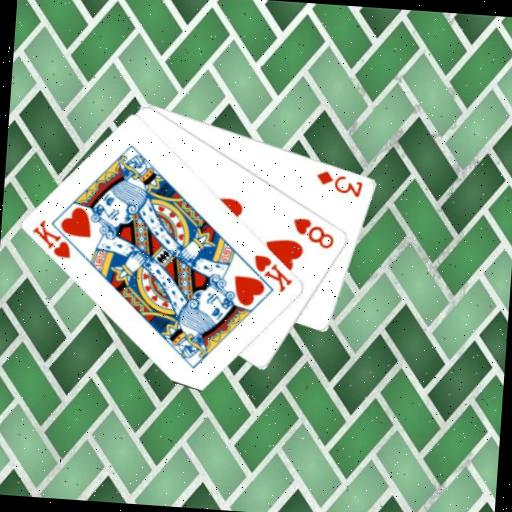3D: (313, 167, 367, 200)
8H: (289, 214, 338, 251)
KH: (29, 215, 76, 260), (249, 251, 297, 295)
